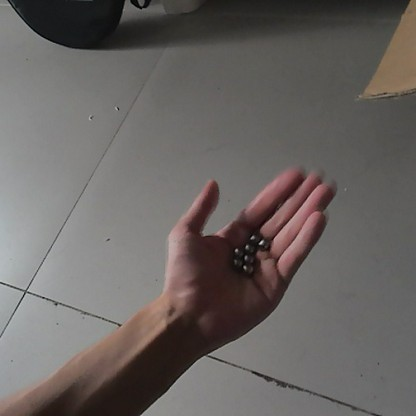ironball: (240, 263, 253, 275), (229, 256, 243, 267), (243, 240, 254, 253), (248, 232, 260, 243), (241, 252, 253, 263), (230, 243, 241, 255), (257, 238, 268, 249)
